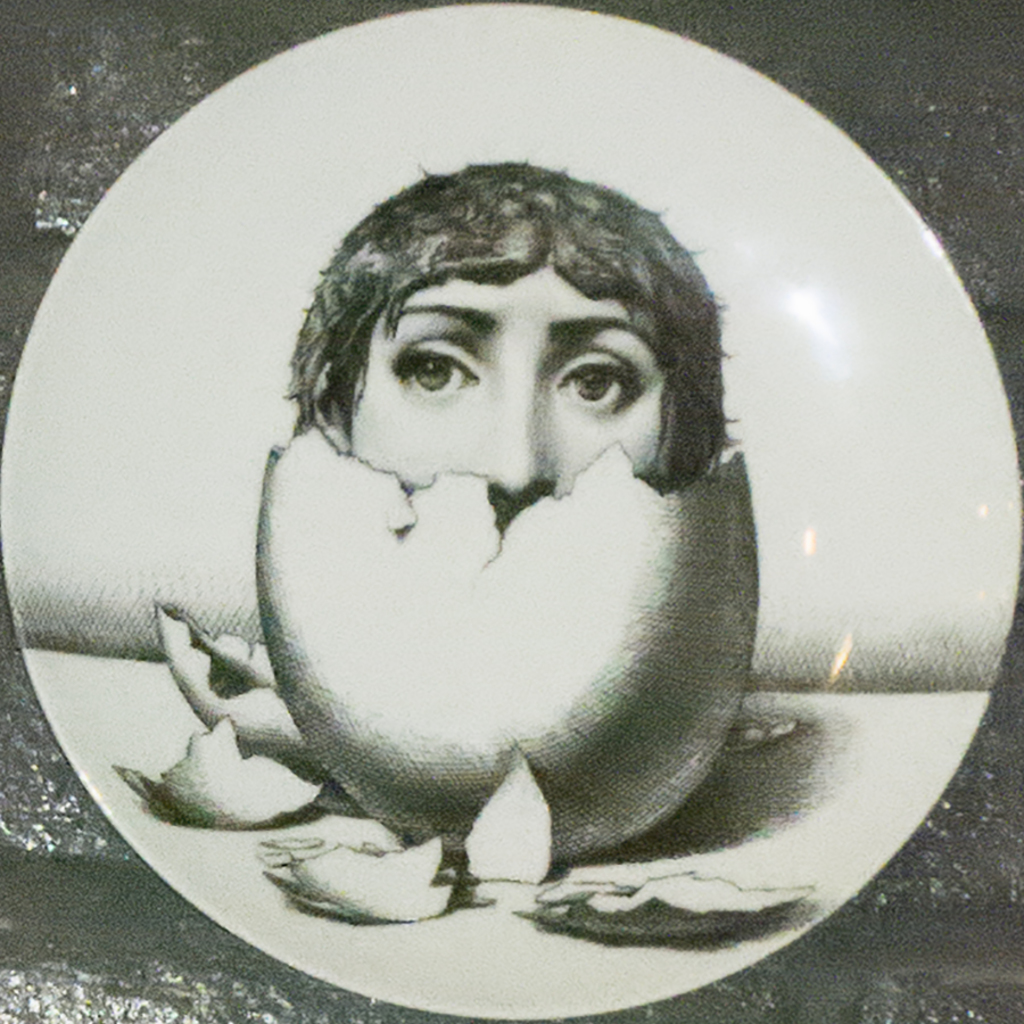plate: (93, 62, 886, 1016)
